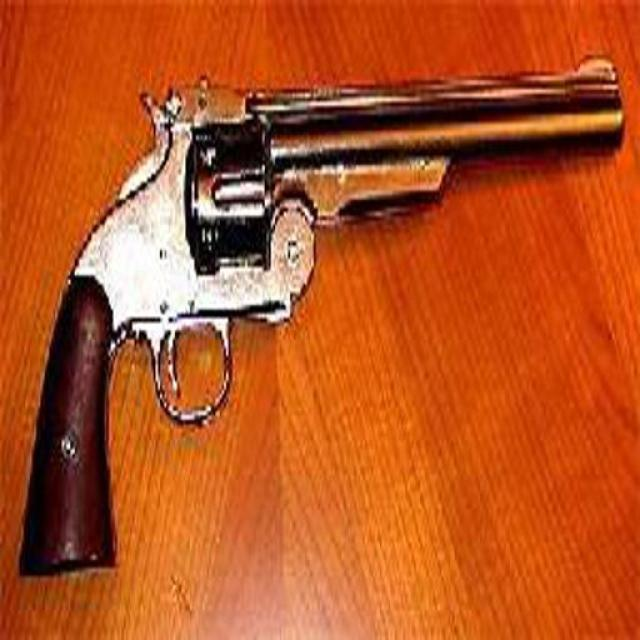pistol: (12, 50, 625, 576)
